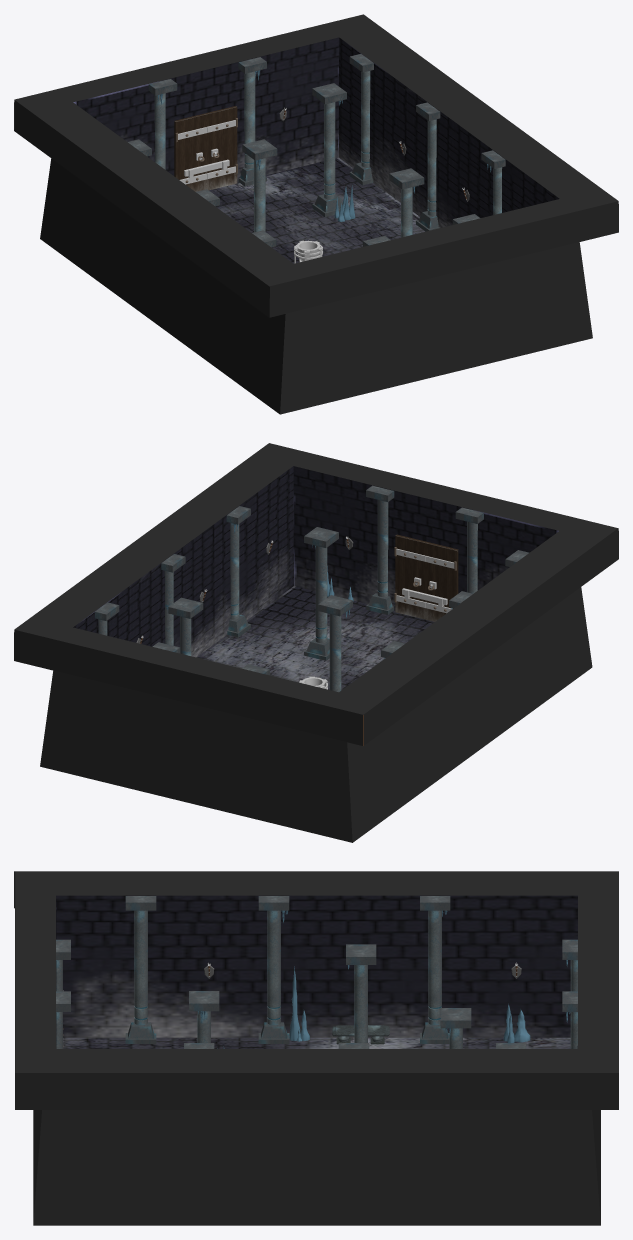
The model's file is Salle Final.FBX.
3 renders of one model, top to bottom at view 1: azimuth 30°, elevation 25°; view 2: azimuth 150°, elevation 25°; view 3: azimuth 270°, elevation 25°, orthographic. The views are drawn at different scales.
Parts seen in each view (by area): view 1: Mur 4, Mur 3, Mur 1, Mur 2, Sol, Object041, Box408, Box450, Box453, Box376; view 2: Mur 2, Mur 3, Mur 1, Mur 4, Sol, Box441, Object039, Box376, Box453, Box450; view 3: Mur 1, Mur 3, Mur 2, Mur 4, Sol, Box453, Box376, Box450, Box364, Group43197, Group43186.
Boxes of the visible parts, box(x1,y1,x2,y2) form: Mur 4: box(269, 199, 618, 414); Mur 3: box(14, 99, 293, 414); Mur 1: box(339, 14, 617, 231); Mur 2: box(14, 14, 362, 186); Sol: box(209, 157, 424, 263); Object041: box(205, 106, 237, 190); Box408: box(174, 113, 206, 191); Box450: box(312, 83, 346, 217); Box453: box(242, 139, 277, 232); Box376: box(389, 168, 424, 237); Mur 2: box(14, 627, 363, 842); Mur 3: box(339, 528, 618, 842); Mur 1: box(14, 443, 293, 657); Mur 4: box(269, 443, 617, 614); Sol: box(196, 586, 434, 690); Box441: box(394, 534, 427, 619); Object039: box(425, 542, 458, 621); Box376: box(304, 527, 338, 660); Box453: box(318, 595, 352, 692); Box450: box(168, 597, 203, 655); Mur 1: box(15, 1043, 618, 1225); Mur 3: box(14, 871, 617, 1043); Mur 2: box(562, 871, 618, 1223); Mur 4: box(15, 871, 70, 1221); Sol: box(63, 1037, 570, 1048); Box453: box(346, 944, 376, 1042); Box376: box(189, 991, 219, 1042); Box450: box(440, 1008, 471, 1048); Box364: box(332, 1025, 389, 1044); Group43197: box(289, 966, 309, 1040); Group43186: box(503, 1003, 530, 1042).
Size of the model in its own units: 1453 by 549 by 1841.
